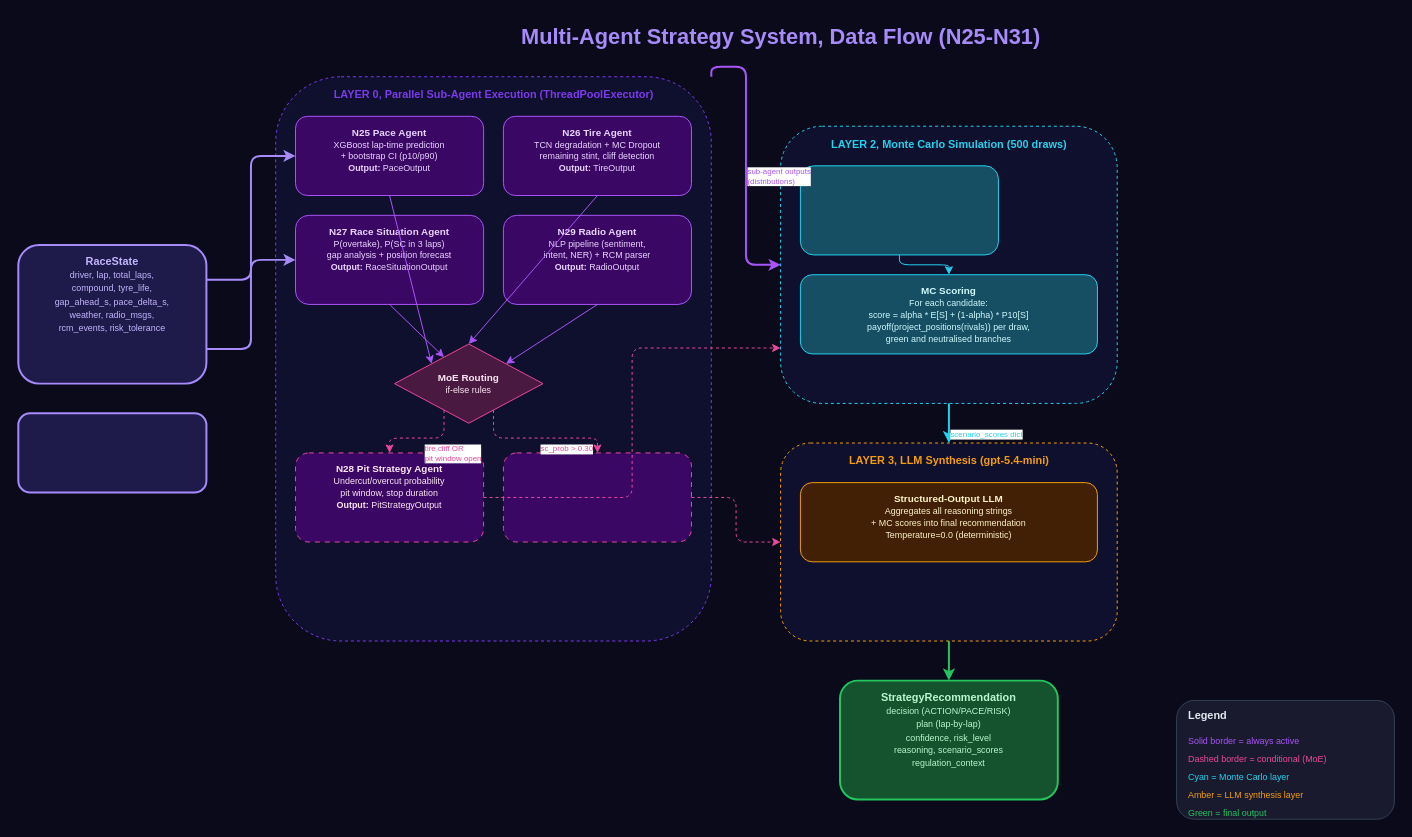
This 1412x837 diagram has some shape labels left out. The shapes that lost their labels are listed below. From the top down, each one's box as (x1, y1, x2, y2) in pixels, then its label:
(799, 165, 998, 255): 4 Strategy Candidates 1. STAY_OUT 2. PIT_NOW 3. UNDERCUT 4. OVERCUT
(17, 412, 207, 493): lap_state dict FastF1 session features or RaceStateManager DF
(502, 452, 692, 542): N30 RAG Agent Qdrant vector search SC regulation context Output: RAGOutput
